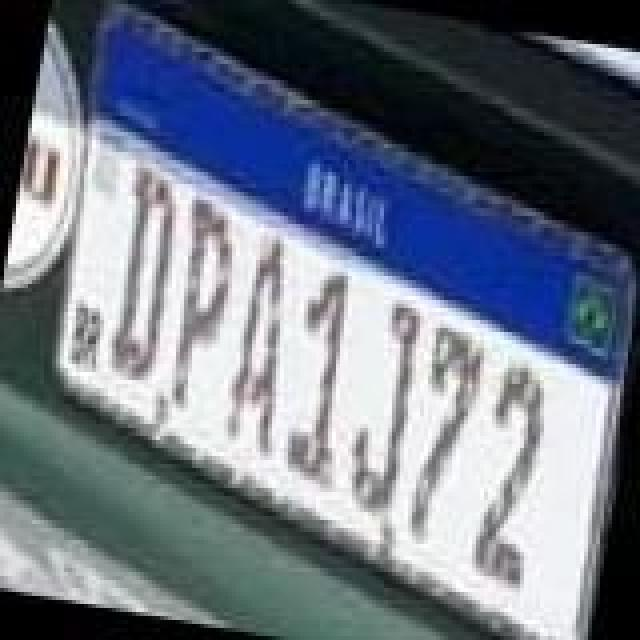1: (272, 260, 368, 492)
2: (462, 358, 562, 594)
7: (396, 320, 492, 552)
A: (218, 228, 310, 460)
D: (96, 160, 192, 384)
J: (338, 294, 430, 522)
P: (152, 188, 248, 412)
